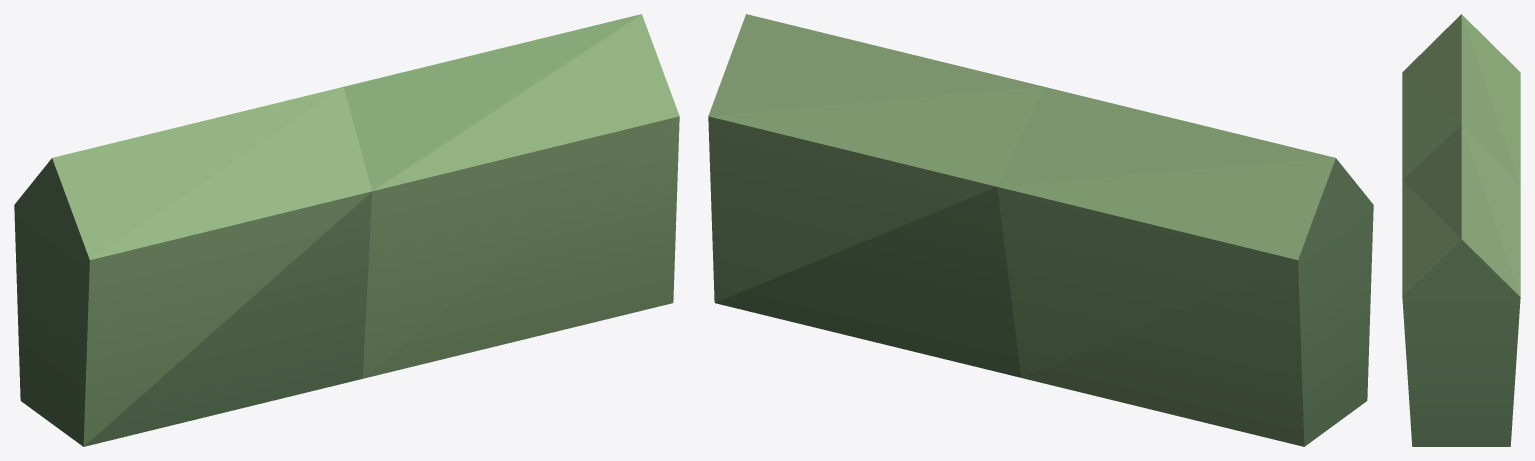
File: hedge.lod2.glb
3 views of the same model, side by side, from view 1: azimuth 30°, elevation 25°; view 2: azimuth 150°, elevation 25°; view 3: azimuth 270°, elevation 25° (orthographic). The views are drawn at different scales.
Bounding box in the file's own units: 2 × 0.862 × 0.444.
